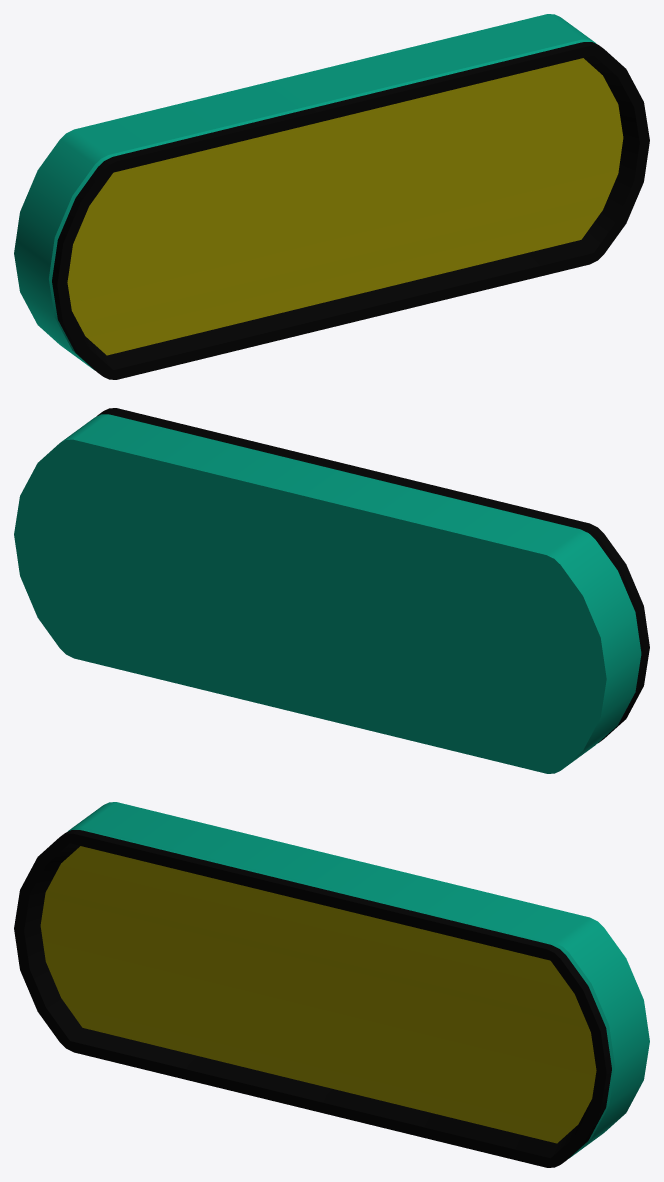
Rendered from sign.fbx.
3 views of the same model, one above another, from view 1: azimuth 30°, elevation 25°; view 2: azimuth 150°, elevation 25°; view 3: azimuth 330°, elevation 25° (orthographic).
Parts seen in each view (by area): view 1: Cube; view 2: Cube; view 3: Cube.
Boxes of the visible parts, box(x1,y1,x2,y2) form: Cube: box(14, 14, 649, 379); Cube: box(14, 408, 649, 773); Cube: box(14, 802, 649, 1167).
Size of the model in its own units: 37.86 by 13.35 by 4.79.
